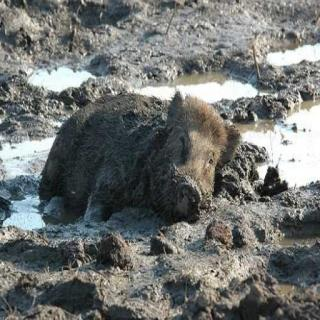Pig: (27, 68, 231, 256)
